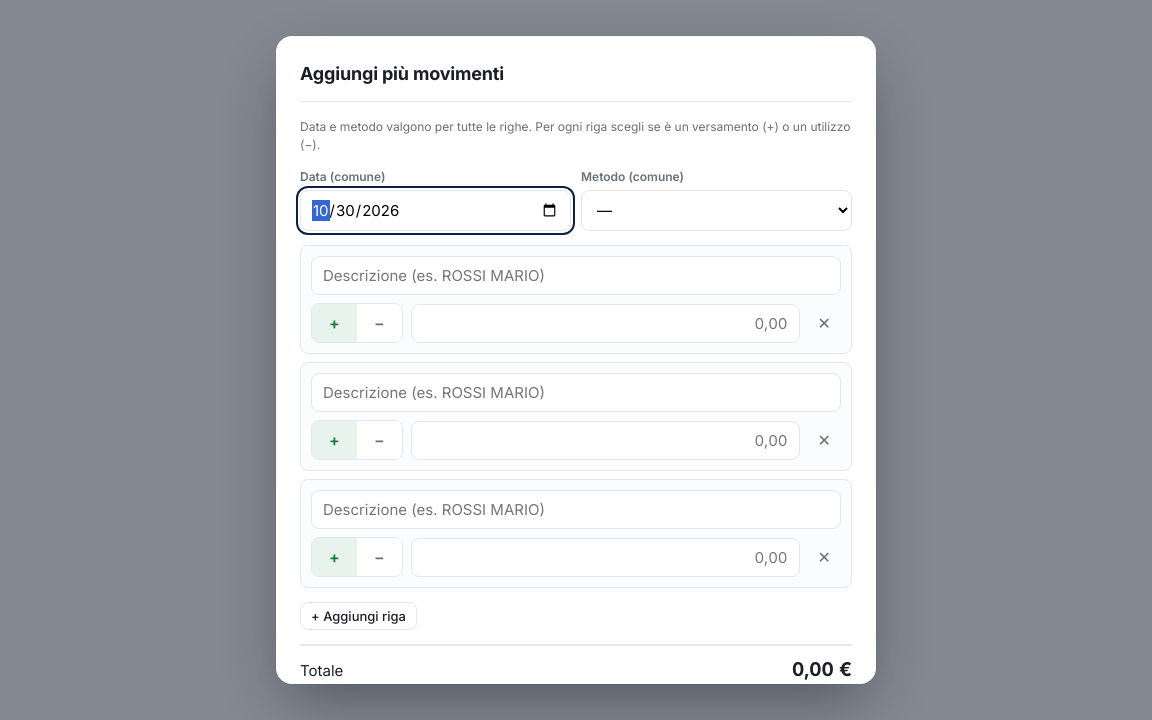
Test: BulkMovimentiModal — l'errore va sulla RIGA, non in un riassunto › una riga con solo l'importo compilato: l'avviso è sotto QUELLA descrizione
Type "100,00" into the field named "Importo del movimento" at (605, 440), box 411,420 -> 800,460
(page scrolled)
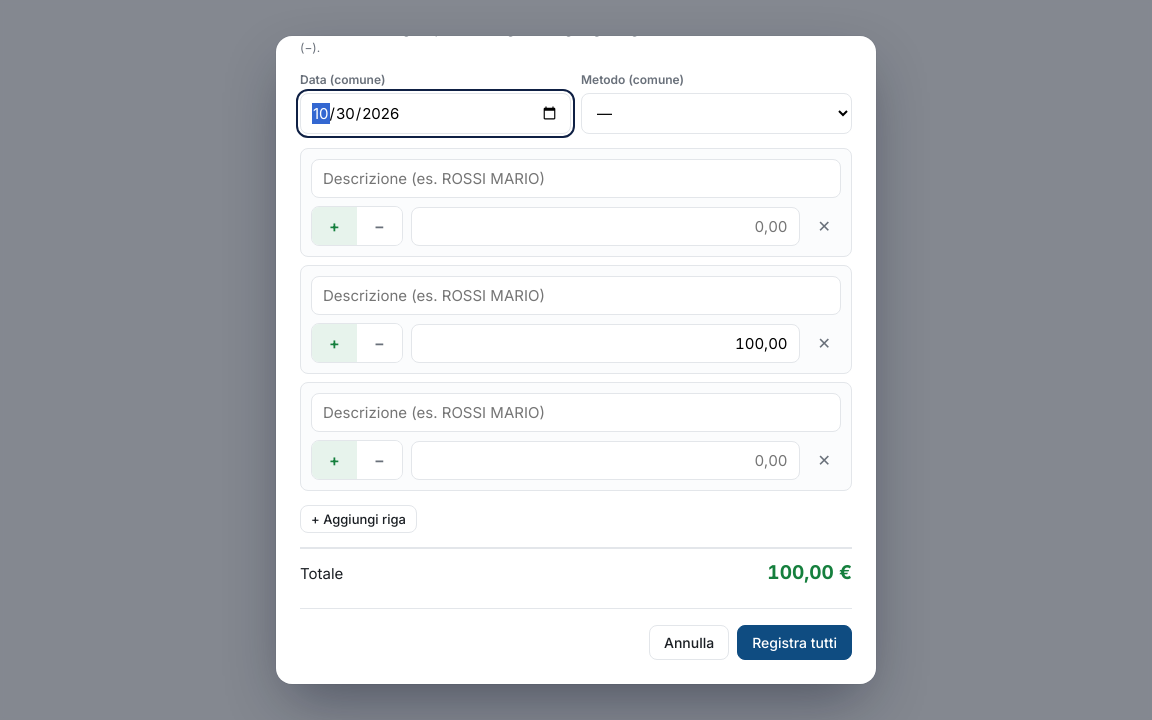
Click the button "Registra tutti" at (795, 642), box 737,624 -> 852,660
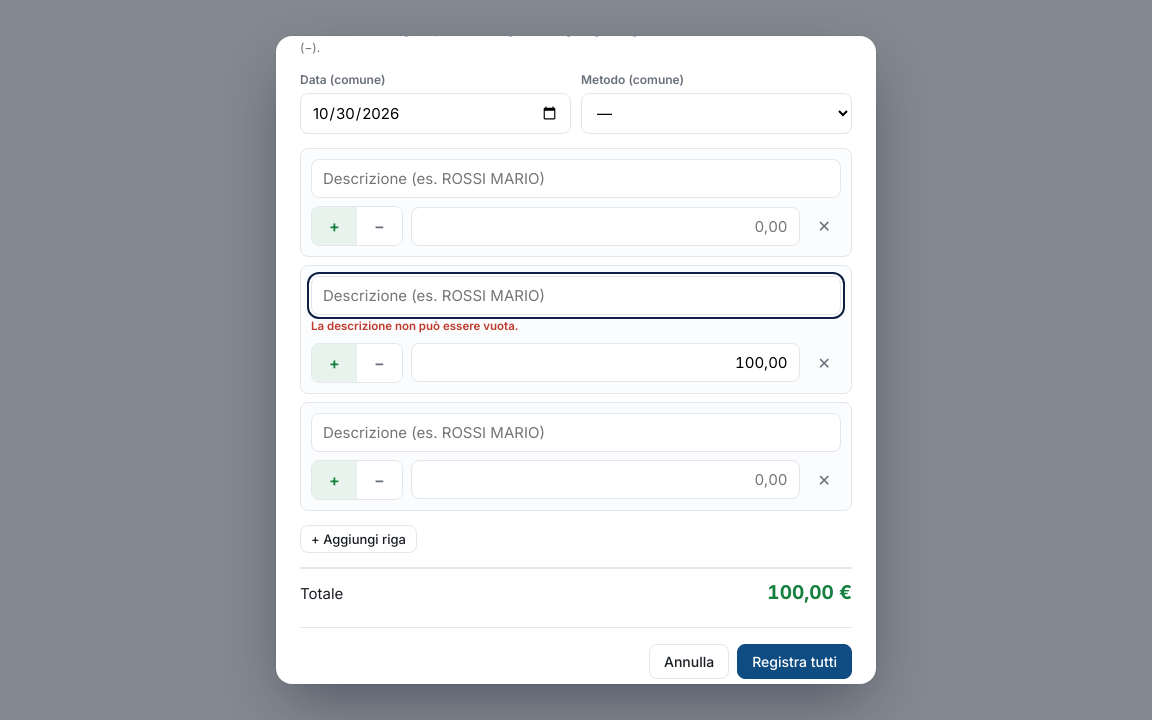
Now the number of messages is 1, box 311,319 -> 518,333
Now the message shows "descrizione", box 311,319 -> 518,333
